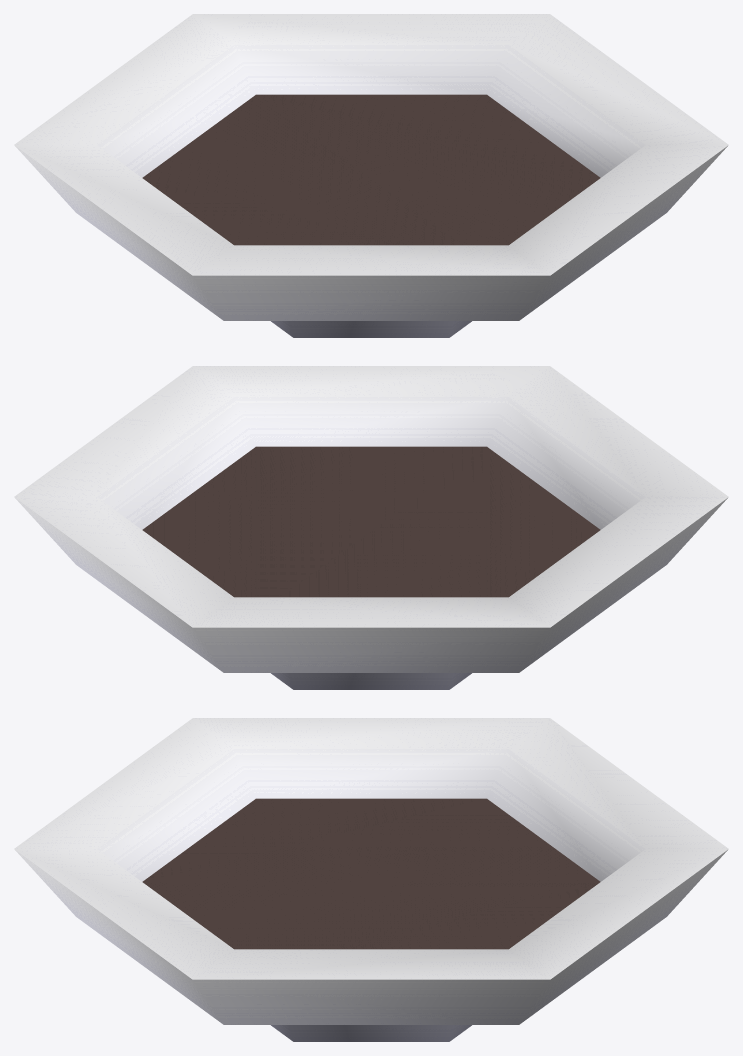
The model's file is food-soy.glb.
3 renders of one model, top to bottom at view 1: azimuth 30°, elevation 25°; view 2: azimuth 150°, elevation 25°; view 3: azimuth 270°, elevation 25°, orthographic.
Visible parts, largest first — view 1: soy; view 2: soy; view 3: soy.
Boxes of the visible parts, box(x1,y1,x2,y2) form: soy: box(14, 14, 728, 337); soy: box(14, 366, 728, 689); soy: box(14, 718, 728, 1041).
Bounding box in the file's own units: 0.1653 × 0.04 × 0.1909.
1 material, 1 textured.
